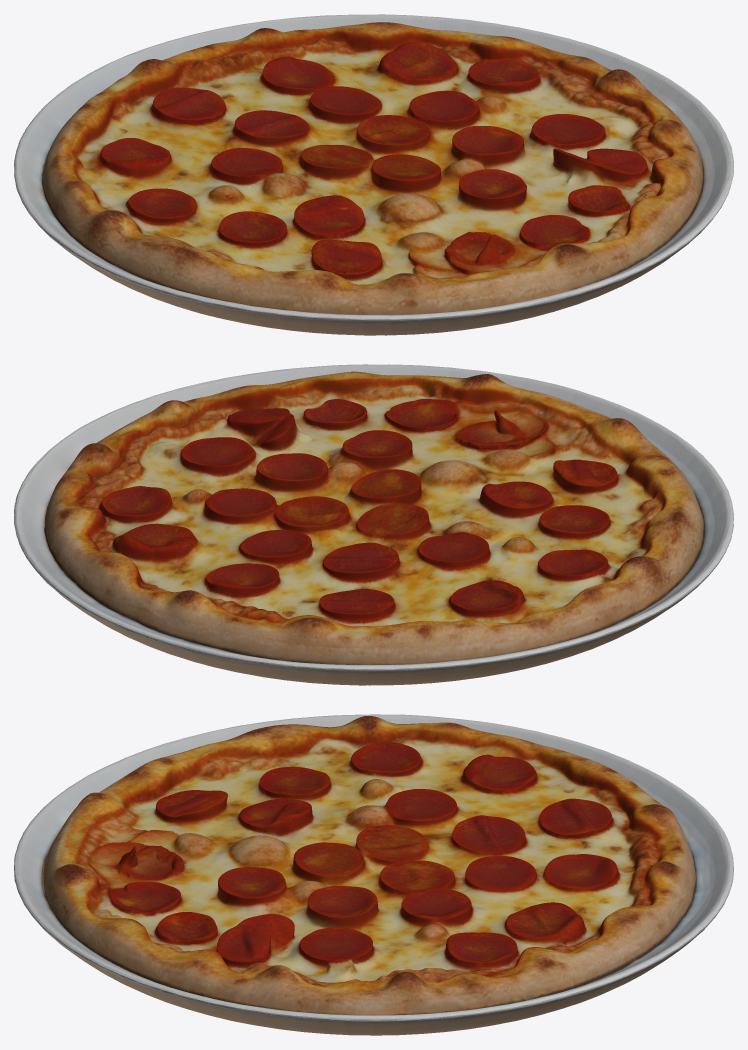
File: pizza1glb-v1.glb
The picture shows the model from 3 angles, top to bottom: view 1: azimuth 30°, elevation 25°; view 2: azimuth 150°, elevation 25°; view 3: azimuth 270°, elevation 25°; orthographic projection.
Visible parts, largest first — view 1: tripo_node_71019911-2150-4396-ae6f-ba1bd2f4211e; view 2: tripo_node_71019911-2150-4396-ae6f-ba1bd2f4211e; view 3: tripo_node_71019911-2150-4396-ae6f-ba1bd2f4211e.
Boxes of the visible parts, x1=… form: tripo_node_71019911-2150-4396-ae6f-ba1bd2f4211e: x1=14, y1=14, x2=733, y2=335; tripo_node_71019911-2150-4396-ae6f-ba1bd2f4211e: x1=14, y1=364, x2=733, y2=685; tripo_node_71019911-2150-4396-ae6f-ba1bd2f4211e: x1=14, y1=714, x2=733, y2=1035.
Bounding box in the file's own units: 0.9997 × 0.1092 × 0.9996.
1 material, 1 textured.
